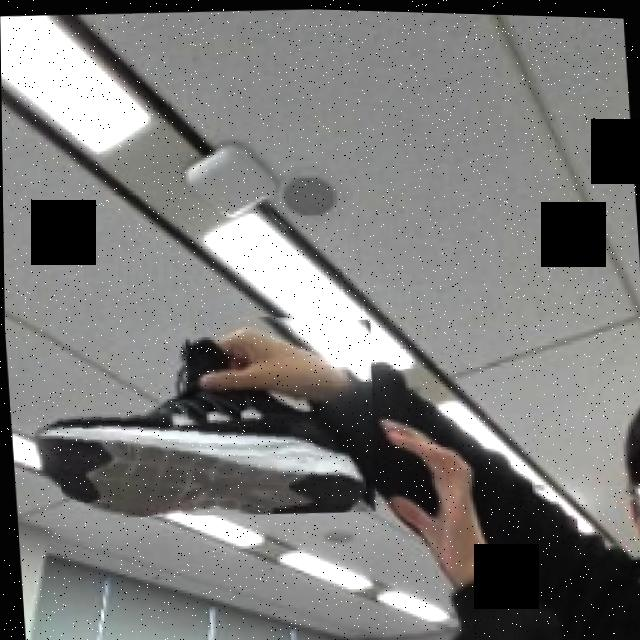shoe: (49, 294, 382, 526)
